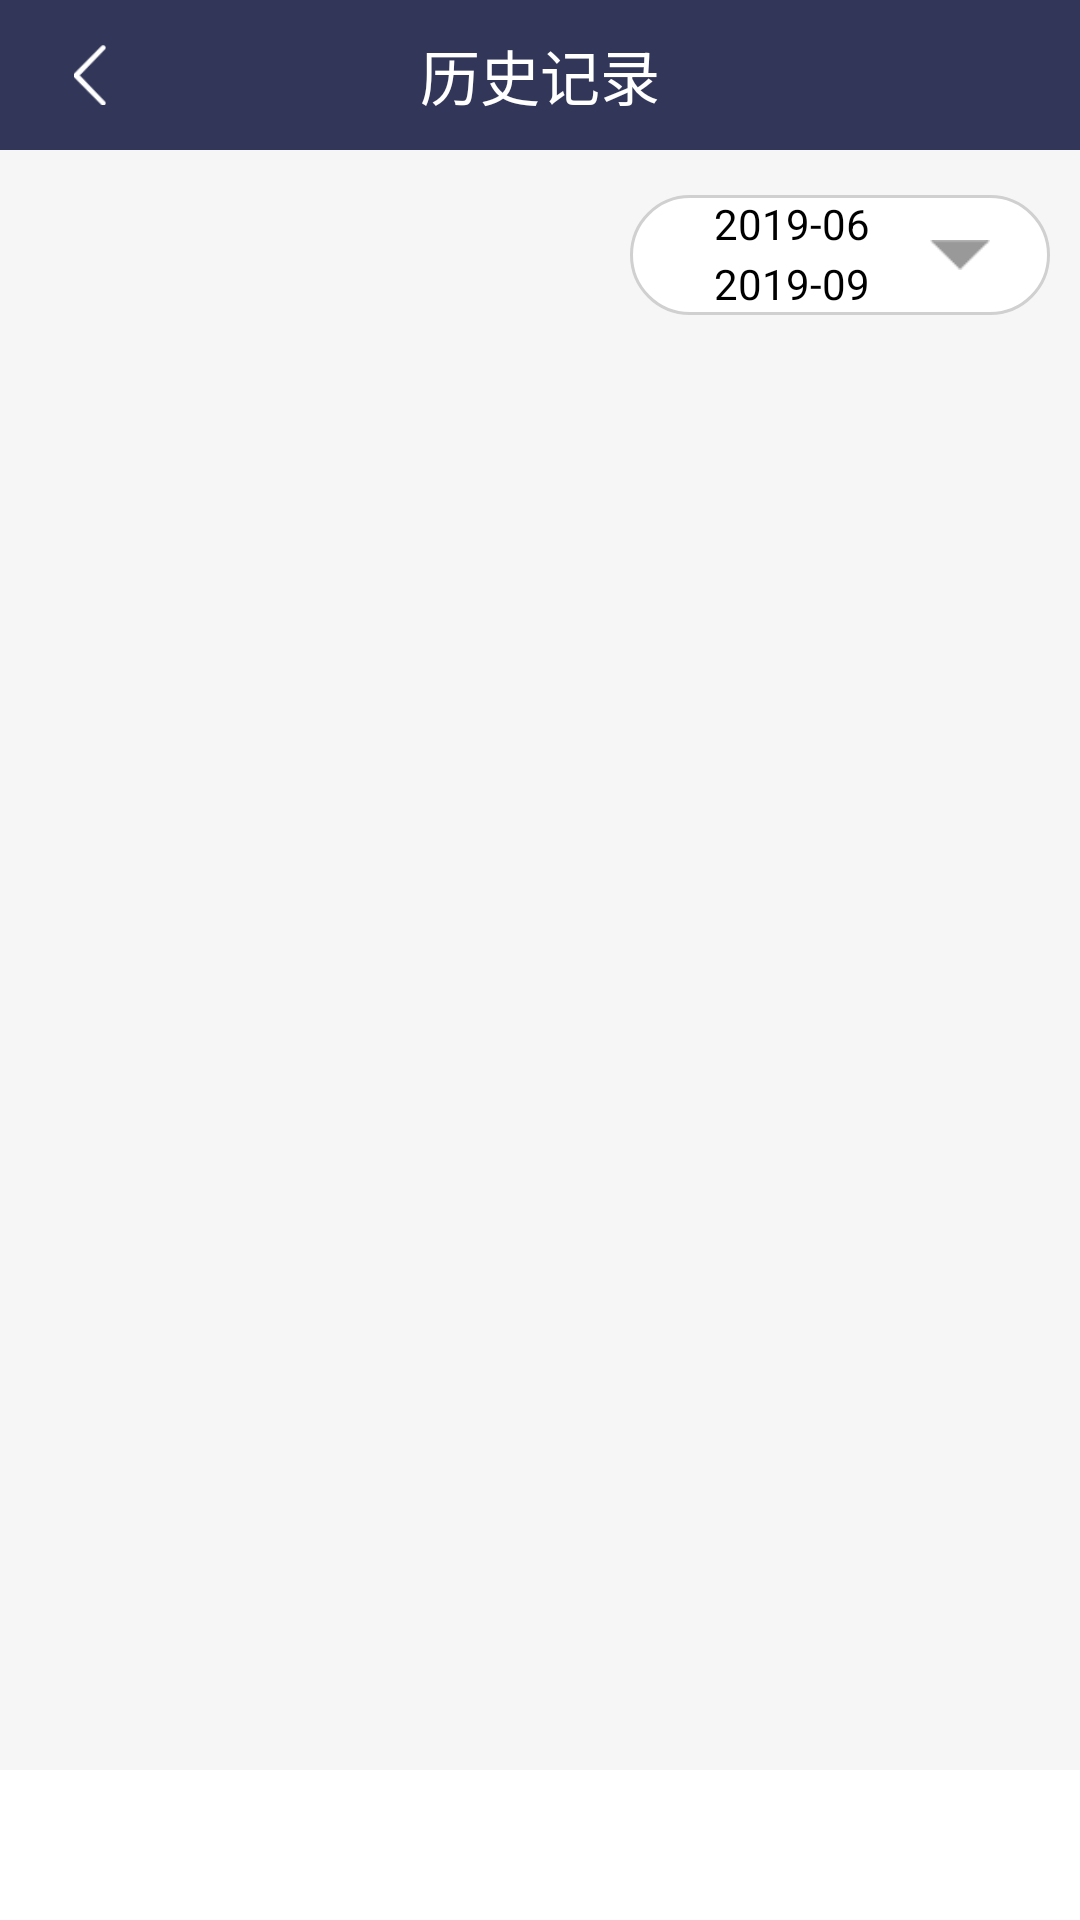

Point at icon controls on the screen. Image size 1080 × 1920, points as [x,y].
setting return: [90,75]
